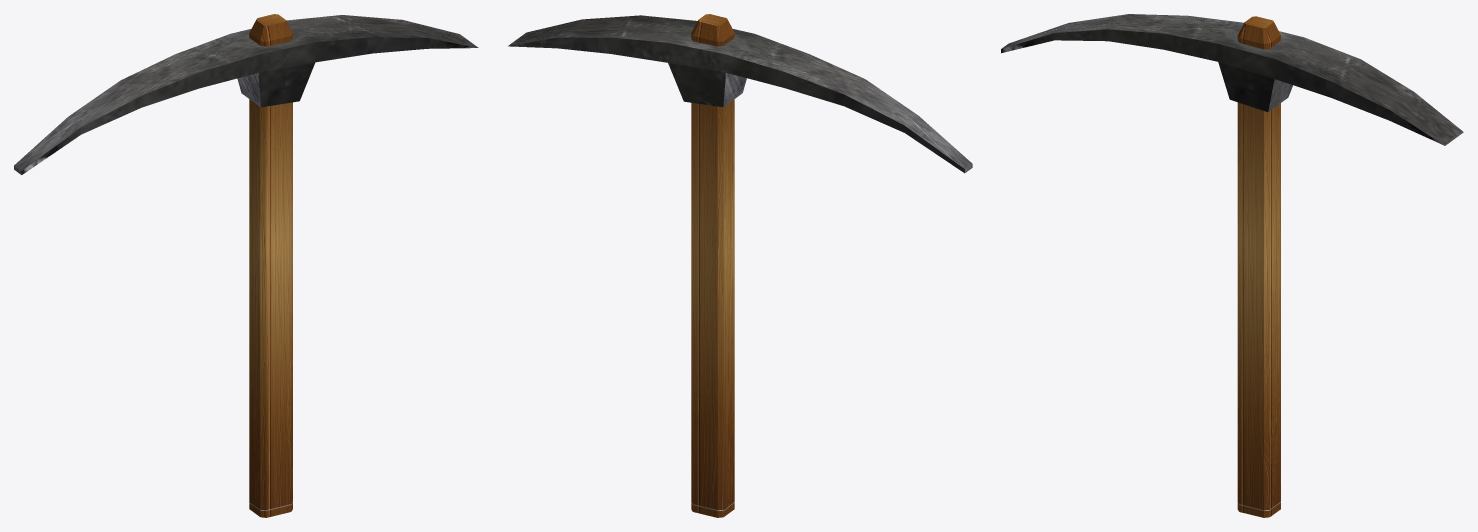
File: scripture.FBX
The picture shows the model from 3 angles, left to right: view 1: azimuth 30°, elevation 25°; view 2: azimuth 150°, elevation 25°; view 3: azimuth 330°, elevation 25°; orthographic projection.
Parts seen in each view (by area): view 1: Box002, Box001; view 2: Box002, Box001; view 3: Box002, Box001.
Boxes of the visible parts, bbox=[...] form: Box002: bbox=[249, 14, 292, 517]; Box001: bbox=[14, 15, 478, 174]; Box002: bbox=[691, 14, 734, 517]; Box001: bbox=[508, 15, 972, 173]; Box002: bbox=[1237, 16, 1280, 517]; Box001: bbox=[1001, 14, 1463, 145].
Bounding box in the file's own units: 59.58 × 61.67 × 6.92.
2 materials, 2 textured.
